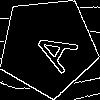A: (23, 22, 80, 75)
